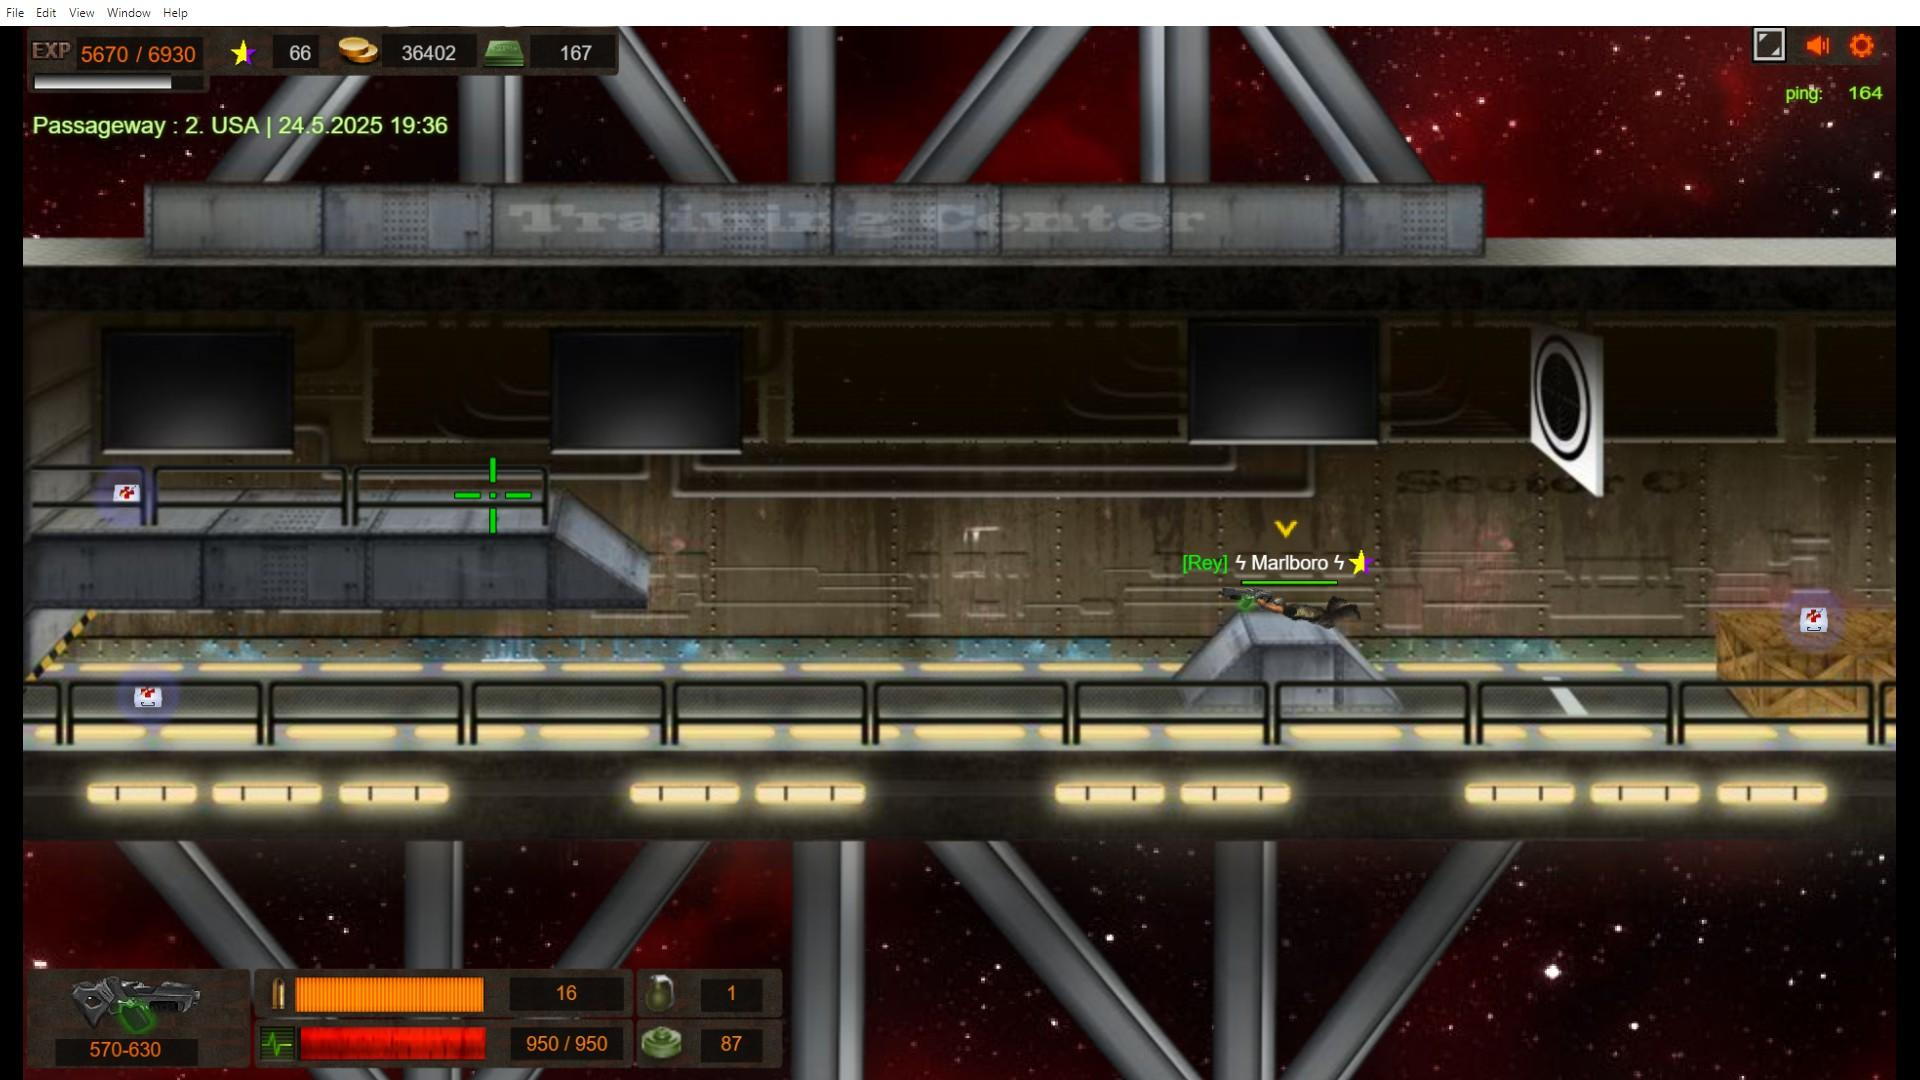enemy: (1266, 596, 1358, 628)
